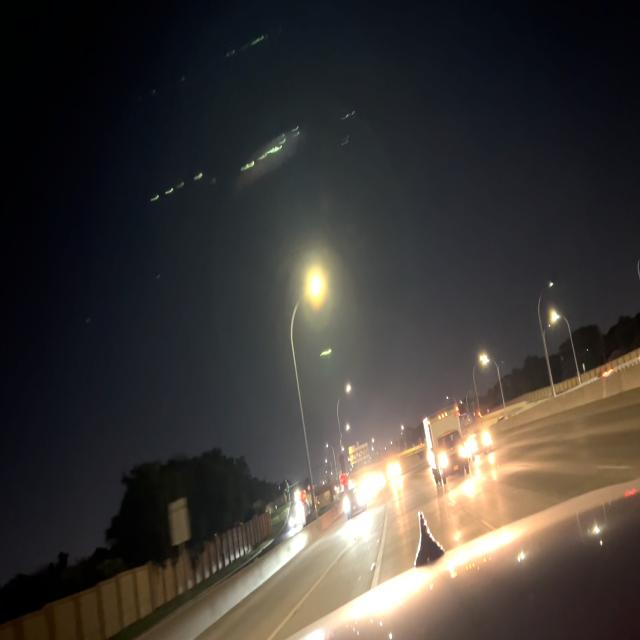back-of-sign: (168, 496, 191, 551), (348, 440, 371, 467)
